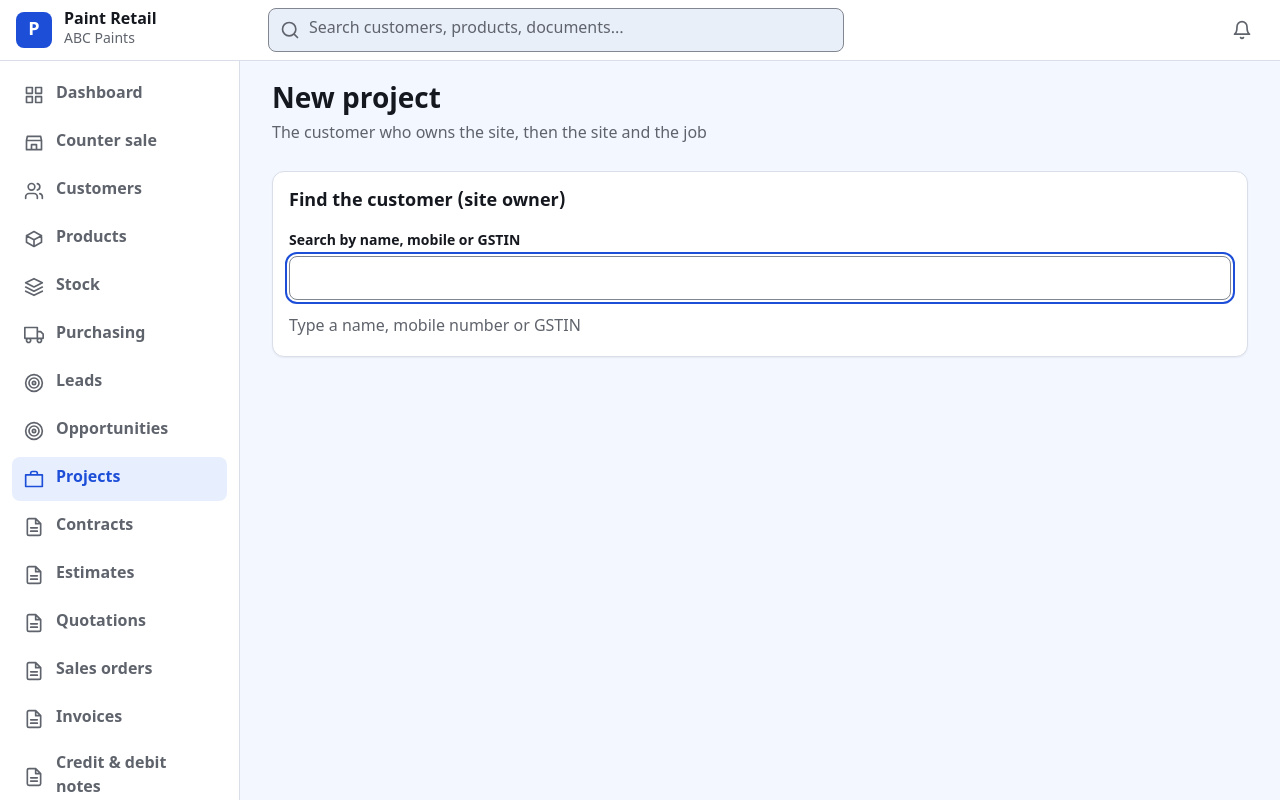
Scenario: NewProjectPage › goes back to choosing the customer, and shows the API’s refusal
The width and height of the screenshot is (1280, 800).
Step 1. Type "meera" into the search field labelled "Search by name, mobile or GSTIN" → (760, 278), box [289, 256, 1231, 300]
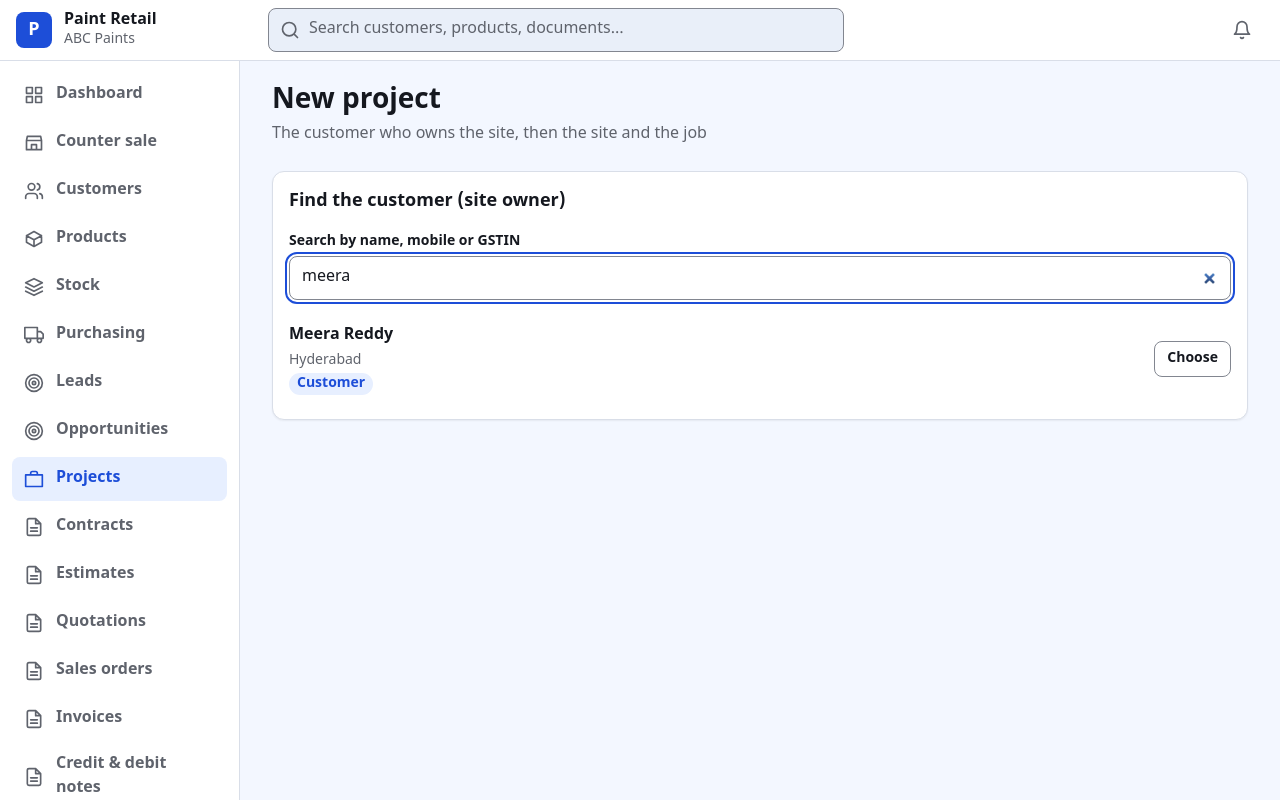
Step 2. Click the button with aria-label "Choose Meera Reddy" → (1193, 359), box [1154, 341, 1231, 377]
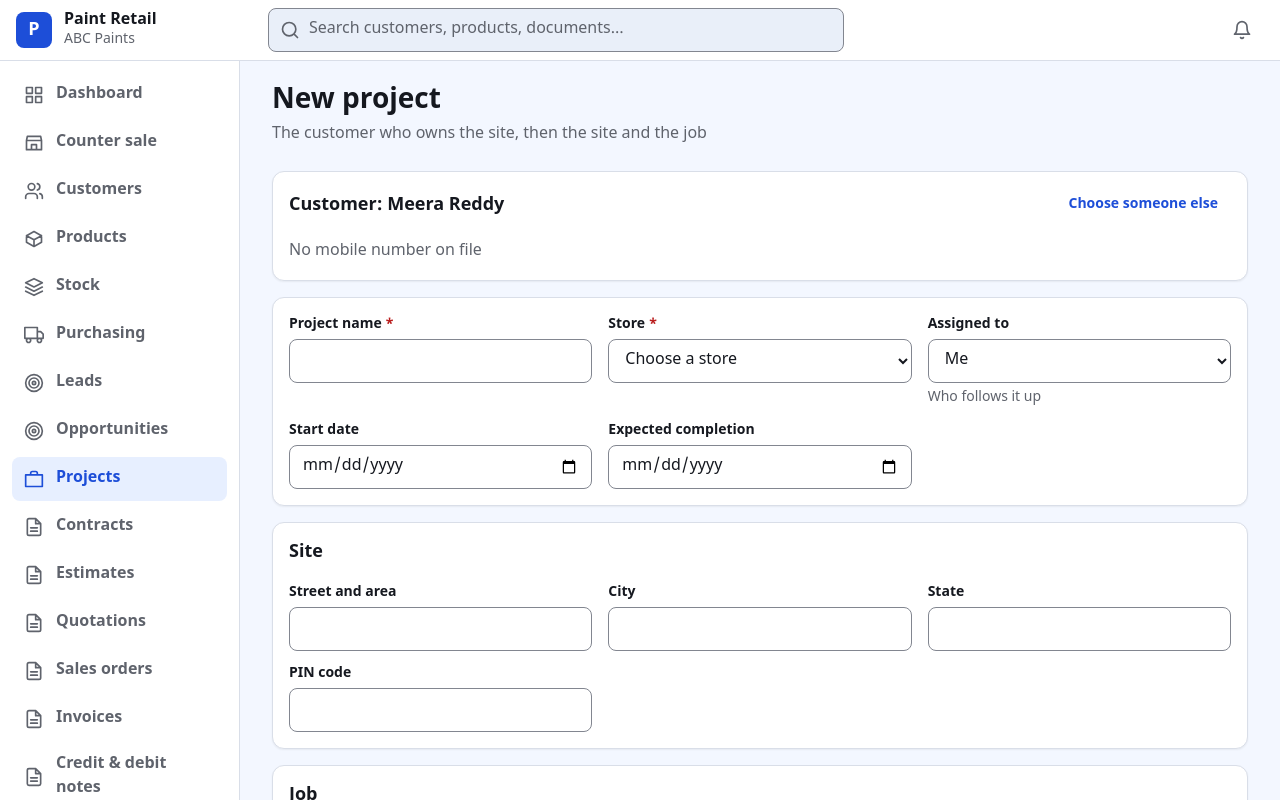
Check: the text "No mobile number on file" is shown, box [289, 241, 482, 262]
Step 3. Type "Flat" into the field labelled "Project name *" → (441, 361), box [289, 339, 592, 383]
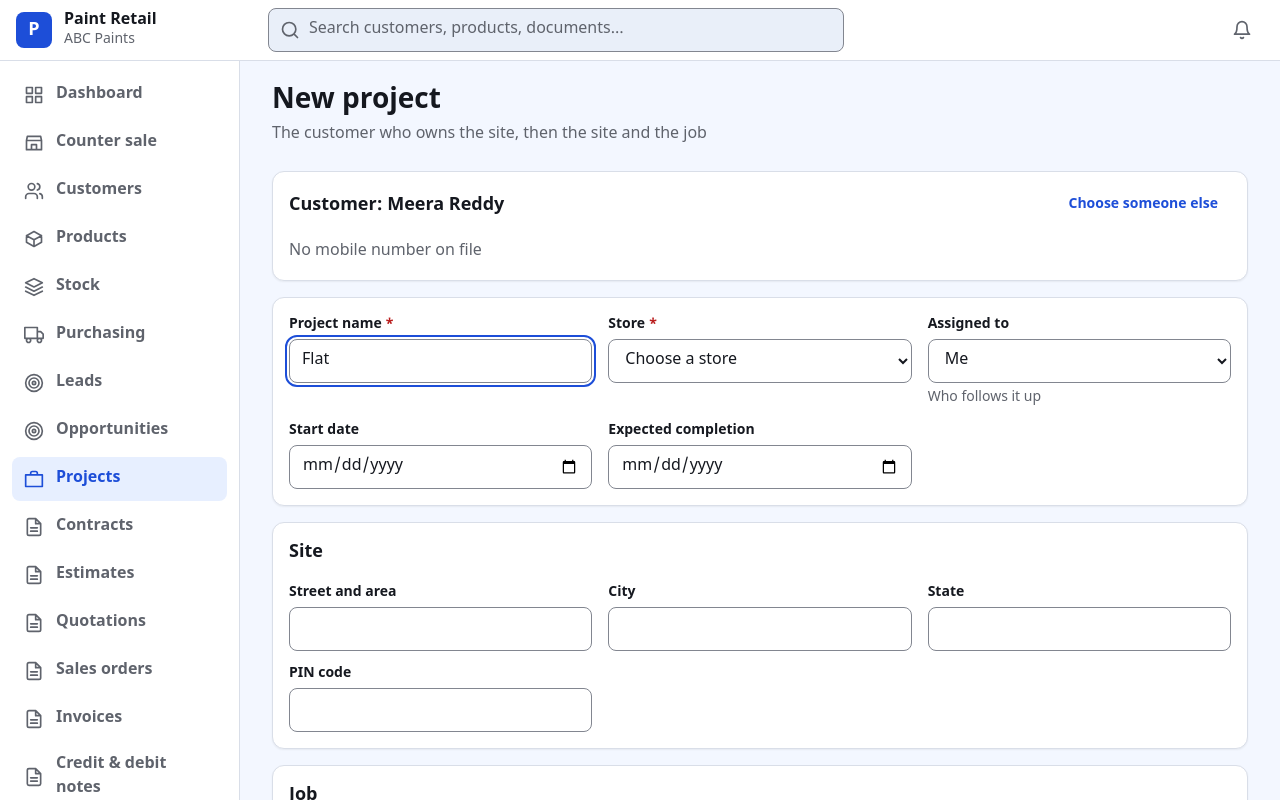
Step 4. Select "PUN · Pune" in the dropdown labelled "Store *" → (760, 361), box [608, 339, 912, 383]
(page scrolled)
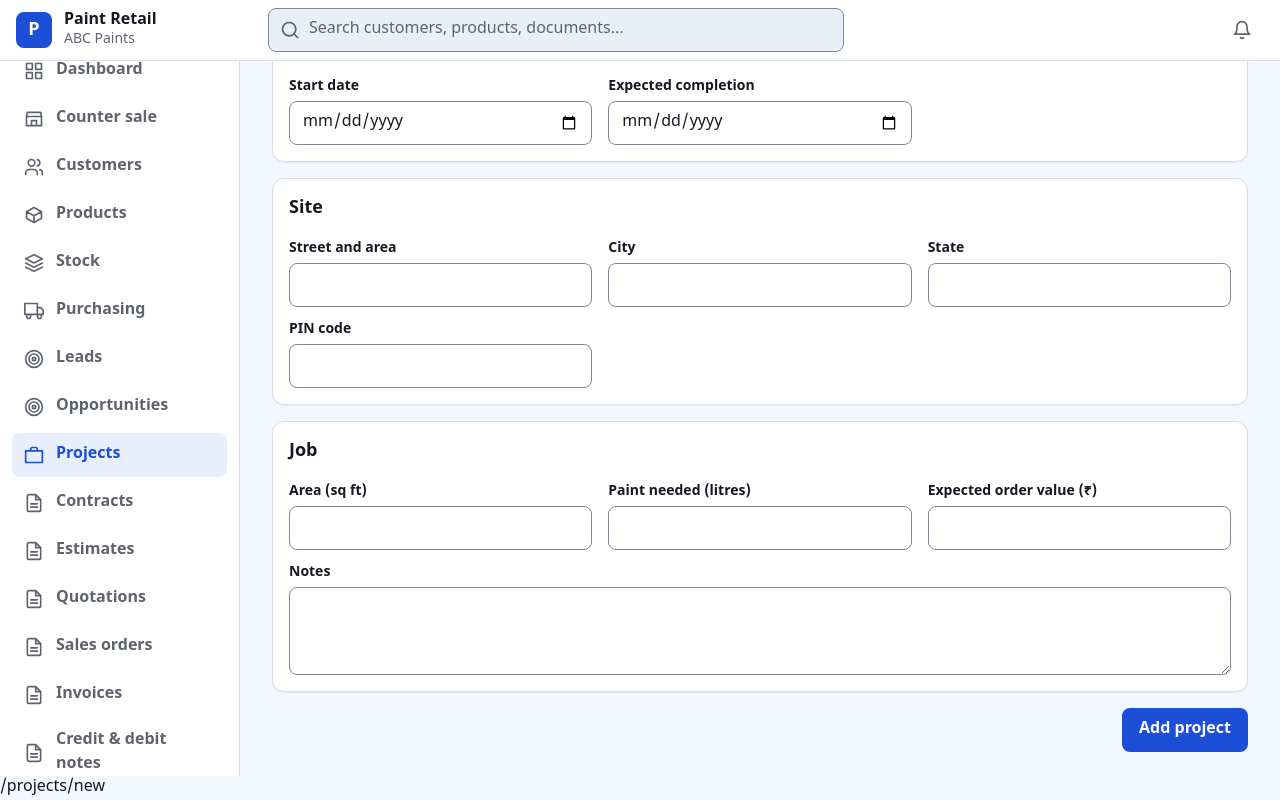
Step 5. Click the button "Add project" → (1185, 730), box [1122, 708, 1248, 752]
(page scrolled)
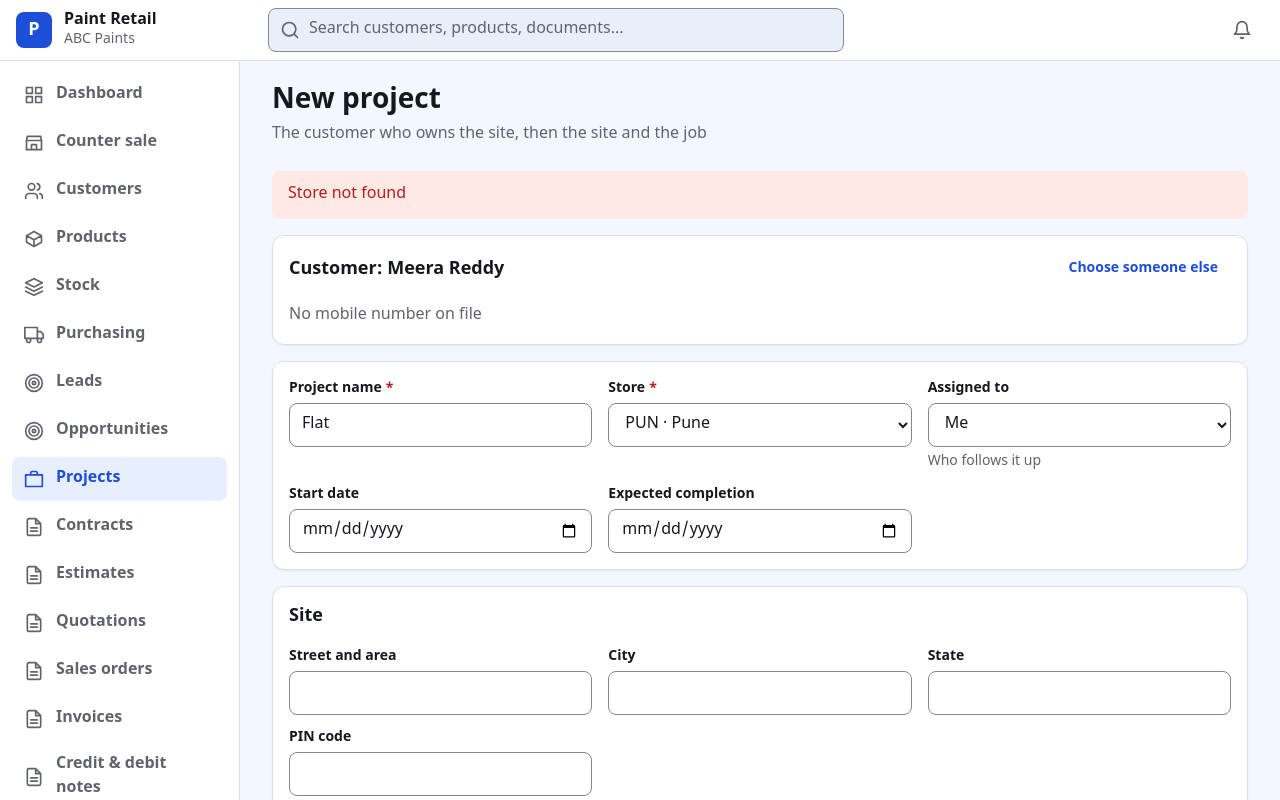
Check: the text "Store not found" is shown, box [288, 183, 406, 207]
Step 6. Click the button "Choose someone else" → (1143, 270), box [1056, 252, 1231, 288]
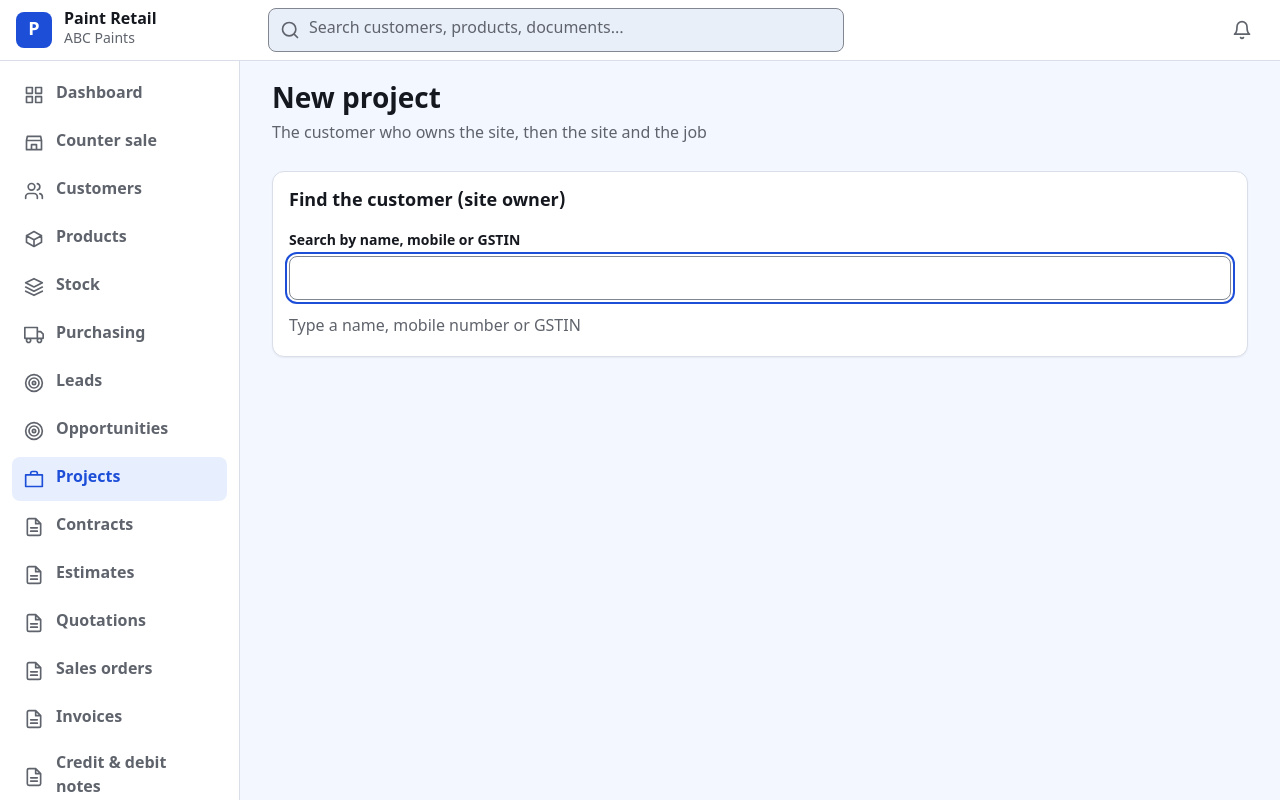
Check: the search field labelled "Search by name, mobile or GSTIN" is shown, box [289, 256, 1231, 300]
